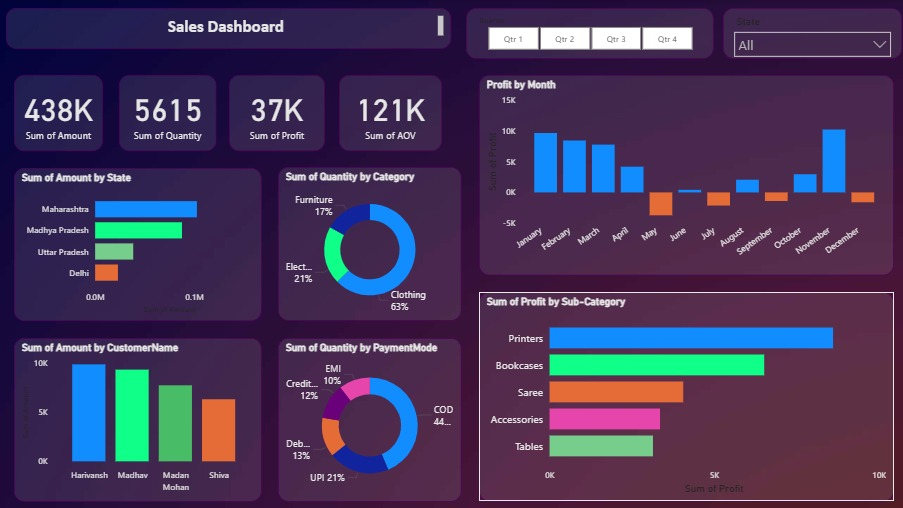

Layout of this report page (visuals, bound fields, positions):
{"tool":"powerbi","page":{"name":"Page 1","canvas":[1280,720],"ordinal":0},"visuals":[{"type":"textbox","box":[9.9,11.3,630.7,58.1],"z":0},{"type":"columnChart","title":"Profit by Month","fields":{"Category":["Powerbi.Order Date.Variation.Date Hierarchy.Month"],"Y":["Sum(Details.Profit)"]},"box":[680.3,105.8,587.9,283.9],"z":1000},{"type":"barChart","fields":{"Category":["Details.Sub-Category"],"Y":["Sum(Details.Profit)"]},"box":[680.3,413.2,587.9,297.3],"z":2000},{"type":"donutChart","fields":{"Category":["Details.Category"],"Y":["Sum(Details.Quantity)"]},"box":[394.8,236.9,260.4,218.4],"z":3000},{"type":"donutChart","fields":{"Y":["Sum(Details.Quantity)"],"Category":["Details.PaymentMode"]},"box":[394.8,478.7,260.4,231.8],"z":4000},{"type":"card","fields":{"Values":["Sum(Details.Amount)"]},"box":[21.8,105.8,126,107.5],"z":5000},{"type":"card","fields":{"Values":["Sum(Details.Quantity)"]},"box":[169.7,105.8,137.7,107.5],"z":6000},{"type":"card","fields":{"Values":["Sum(Details.Profit)"]},"box":[325.9,105.8,136.1,107.5],"z":7000},{"type":"card","fields":{"Values":["Sum(Details.AOV)"]},"box":[482.1,105.8,146.1,107.5],"z":8000},{"type":"barChart","fields":{"Y":["Sum(Details.Amount)"],"Category":["Powerbi.State"]},"box":[21.8,238.5,351.1,216.7],"z":9000},{"type":"columnChart","fields":{"Category":["Powerbi.CustomerName"],"Y":["Sum(Details.Amount)"]},"box":[21.8,478.7,351.1,231.8],"z":10000},{"type":"slicer","fields":{"Values":["Powerbi.Order Date.Variation.Date Hierarchy.Quarter"]},"box":[661.8,11.8,351.1,72.2],"z":10001},{"type":"slicer","fields":{"Values":["Powerbi.State"]},"box":[1026.4,11.8,253.6,72.2],"z":10002}]}

Visuals, with their boxes in screenshot pixels (x1, y1, x2, y2), scaled from the page's 1280x720 canvas onto the 903x508 screenshot:
textbox: bbox=(7, 8, 452, 49)
"Profit by Month" columnChart: bbox=(480, 75, 895, 275)
barChart - Details.Sub-Category x Sum(Details.Profit): bbox=(480, 292, 895, 501)
donutChart - Details.Category x Sum(Details.Quantity): bbox=(279, 167, 462, 321)
donutChart - Sum(Details.Quantity) x Details.PaymentMode: bbox=(279, 338, 462, 501)
card - Sum(Details.Amount): bbox=(15, 75, 104, 150)
card - Sum(Details.Quantity): bbox=(120, 75, 217, 150)
card - Sum(Details.Profit): bbox=(230, 75, 326, 150)
card - Sum(Details.AOV): bbox=(340, 75, 443, 150)
barChart - Sum(Details.Amount) x Powerbi.State: bbox=(15, 168, 263, 321)
columnChart - Powerbi.CustomerName x Sum(Details.Amount): bbox=(15, 338, 263, 501)
slicer - Powerbi.Order Date.Variation.Date Hierarchy.Quarter: bbox=(467, 8, 715, 59)
slicer - Powerbi.State: bbox=(724, 8, 902, 59)
